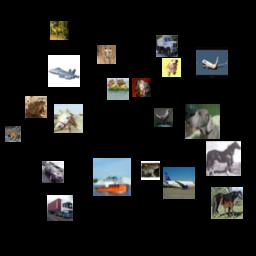airplane: (196, 47, 228, 79), (163, 167, 195, 199), (48, 55, 80, 87)
automobile: (42, 161, 64, 183)
bird: (154, 108, 173, 127)
deer: (50, 21, 69, 40), (97, 45, 116, 64)
dog: (185, 104, 220, 139), (162, 58, 181, 77), (132, 78, 151, 97)
frog: (25, 96, 47, 118), (141, 161, 160, 180), (5, 126, 21, 142)
ship: (93, 158, 131, 196), (107, 78, 129, 100)
truck: (47, 195, 73, 221), (156, 35, 178, 57)
